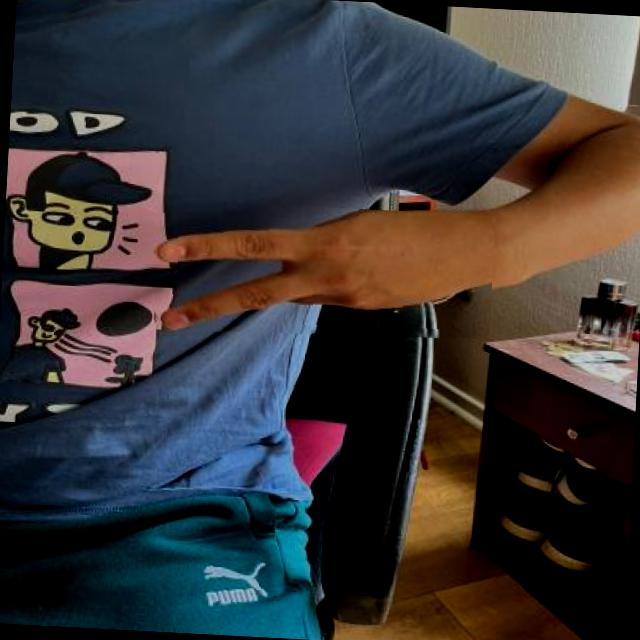H: (149, 198, 496, 347)
